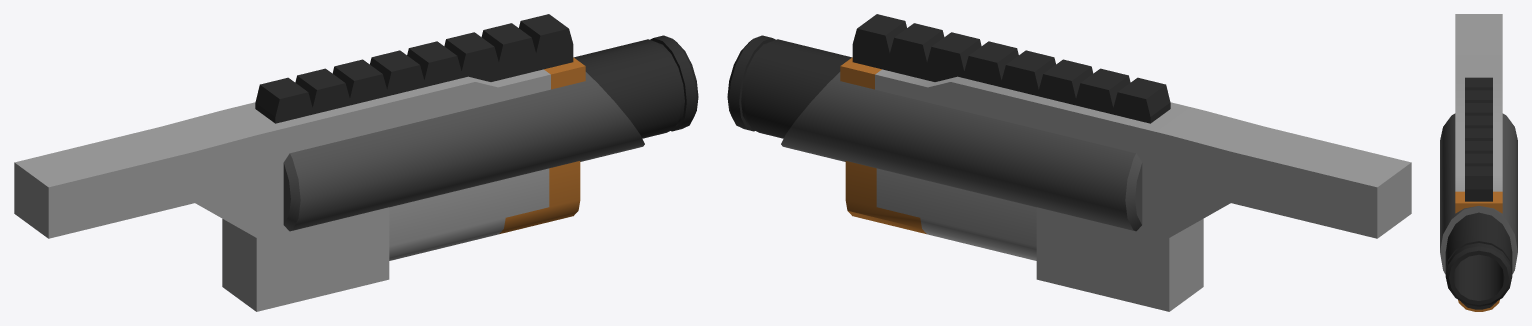
Rendered from quaternius-modular-sci-fi-guns-barrel-grenade-1.glb.
The picture shows the model from 3 angles, left to right: view 1: azimuth 30°, elevation 25°; view 2: azimuth 150°, elevation 25°; view 3: azimuth 270°, elevation 25°; orthographic projection. The views are drawn at different scales.
Visible parts, largest first — view 1: Barrel_Grenade_1; view 2: Barrel_Grenade_1; view 3: Barrel_Grenade_1.
Part boxes in pixels (x1,y1,x2,y2): Barrel_Grenade_1: [14, 14, 698, 311]; Barrel_Grenade_1: [727, 14, 1411, 311]; Barrel_Grenade_1: [1440, 14, 1517, 311].
Bounding box in the file's own units: 0.9726 × 0.2883 × 0.1459.
